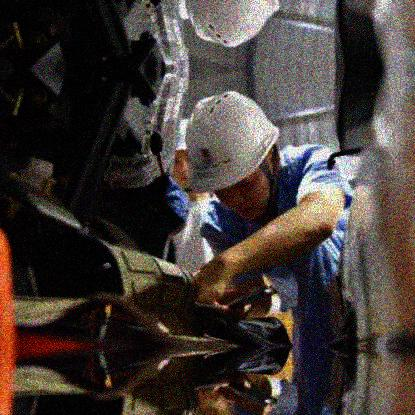helmet: (183, 91, 279, 223), (172, 115, 190, 188)
